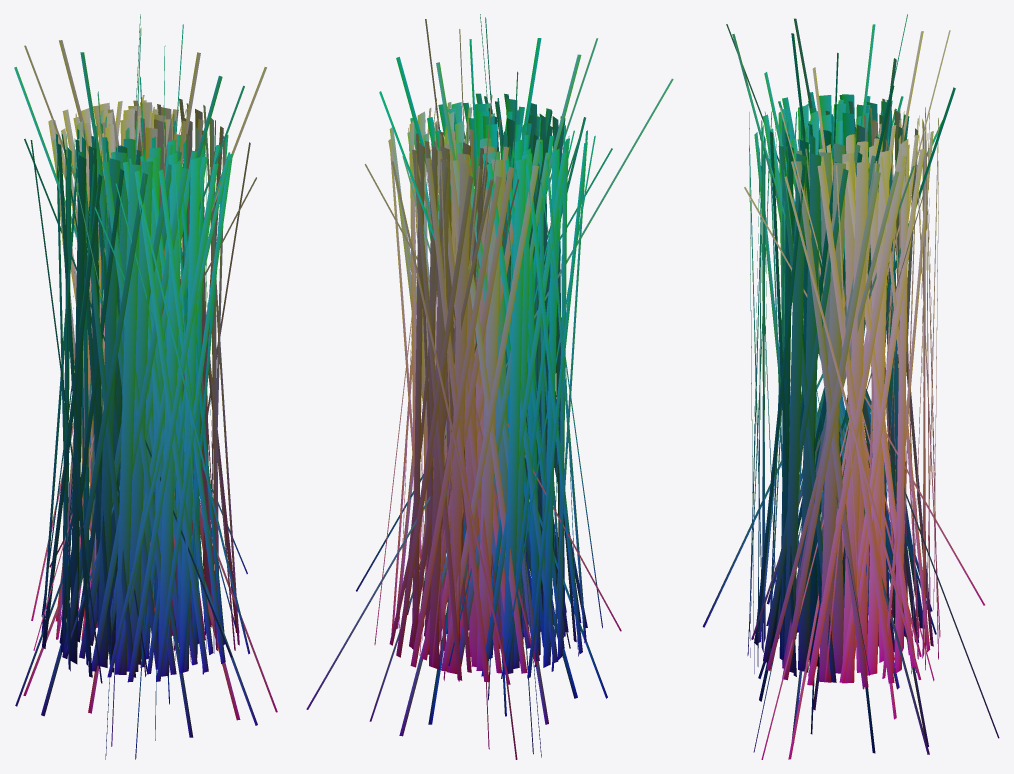
File: LilyForestSeparated.fbx
3 renders of one model, left to right at view 1: azimuth 30°, elevation 25°; view 2: azimuth 150°, elevation 25°; view 3: azimuth 270°, elevation 25°, orthographic.
Visible parts, largest first — view 1: polySurface191, polySurface188, polySurface184, polySurface178, polySurface192, polySurface195, polySurface186, polySurface185, polySurface194, polySurface180, polySurface190, polySurface179 (+58 smaller); view 2: polySurface140, polySurface144, polySurface141, polySurface150, polySurface133, polySurface146, polySurface143, polySurface145, polySurface152, polySurface157, polySurface151, polySurface142 (+48 smaller); view 3: polySurface174, polySurface161, polySurface167, polySurface171, polySurface158, polySurface163, polySurface169, polySurface162, polySurface157, polySurface168, polySurface160, polySurface173 (+61 smaller).
Part boxes in pixels (left/top/right/bottom): polySurface191: left=114, top=164, right=141, bottom=674; polySurface188: left=126, top=161, right=152, bottom=671; polySurface184: left=158, top=163, right=182, bottom=676; polySurface178: left=179, top=157, right=200, bottom=673; polySurface192: left=97, top=158, right=120, bottom=667; polySurface195: left=70, top=155, right=86, bottom=664; polySurface186: left=127, top=164, right=218, bottom=682; polySurface185: left=134, top=170, right=208, bottom=672; polySurface194: left=62, top=173, right=147, bottom=658; polySurface180: left=156, top=154, right=232, bottom=681; polySurface190: left=91, top=168, right=188, bottom=671; polySurface179: left=158, top=169, right=225, bottom=663; polySurface140: left=503, top=158, right=526, bottom=674; polySurface144: left=446, top=163, right=471, bottom=673; polySurface141: left=476, top=159, right=503, bottom=670; polySurface150: left=429, top=159, right=449, bottom=668; polySurface133: left=543, top=148, right=559, bottom=667; polySurface146: left=410, top=176, right=501, bottom=667; polySurface143: left=441, top=165, right=538, bottom=671; polySurface145: left=425, top=158, right=489, bottom=682; polySurface152: left=396, top=175, right=473, bottom=657; polySurface157: left=412, top=143, right=424, bottom=649; polySurface151: left=412, top=150, right=462, bottom=680; polySurface142: left=452, top=160, right=527, bottom=673; polySurface174: left=784, top=153, right=806, bottom=672; polySurface161: left=842, top=162, right=868, bottom=683; polySurface167: left=819, top=162, right=845, bottom=682; polySurface171: left=798, top=153, right=821, bottom=672; polySurface158: left=867, top=150, right=889, bottom=675; polySurface163: left=807, top=166, right=905, bottom=685; polySurface169: left=782, top=171, right=880, bottom=680; polySurface162: left=817, top=165, right=894, bottom=683; polySurface157: left=895, top=144, right=909, bottom=673; polySurface168: left=795, top=161, right=868, bottom=687; polySurface160: left=839, top=149, right=925, bottom=682; polySurface173: left=763, top=168, right=848, bottom=662.
Size of the model in its own units: 75.88 by 200 by 77.66.
